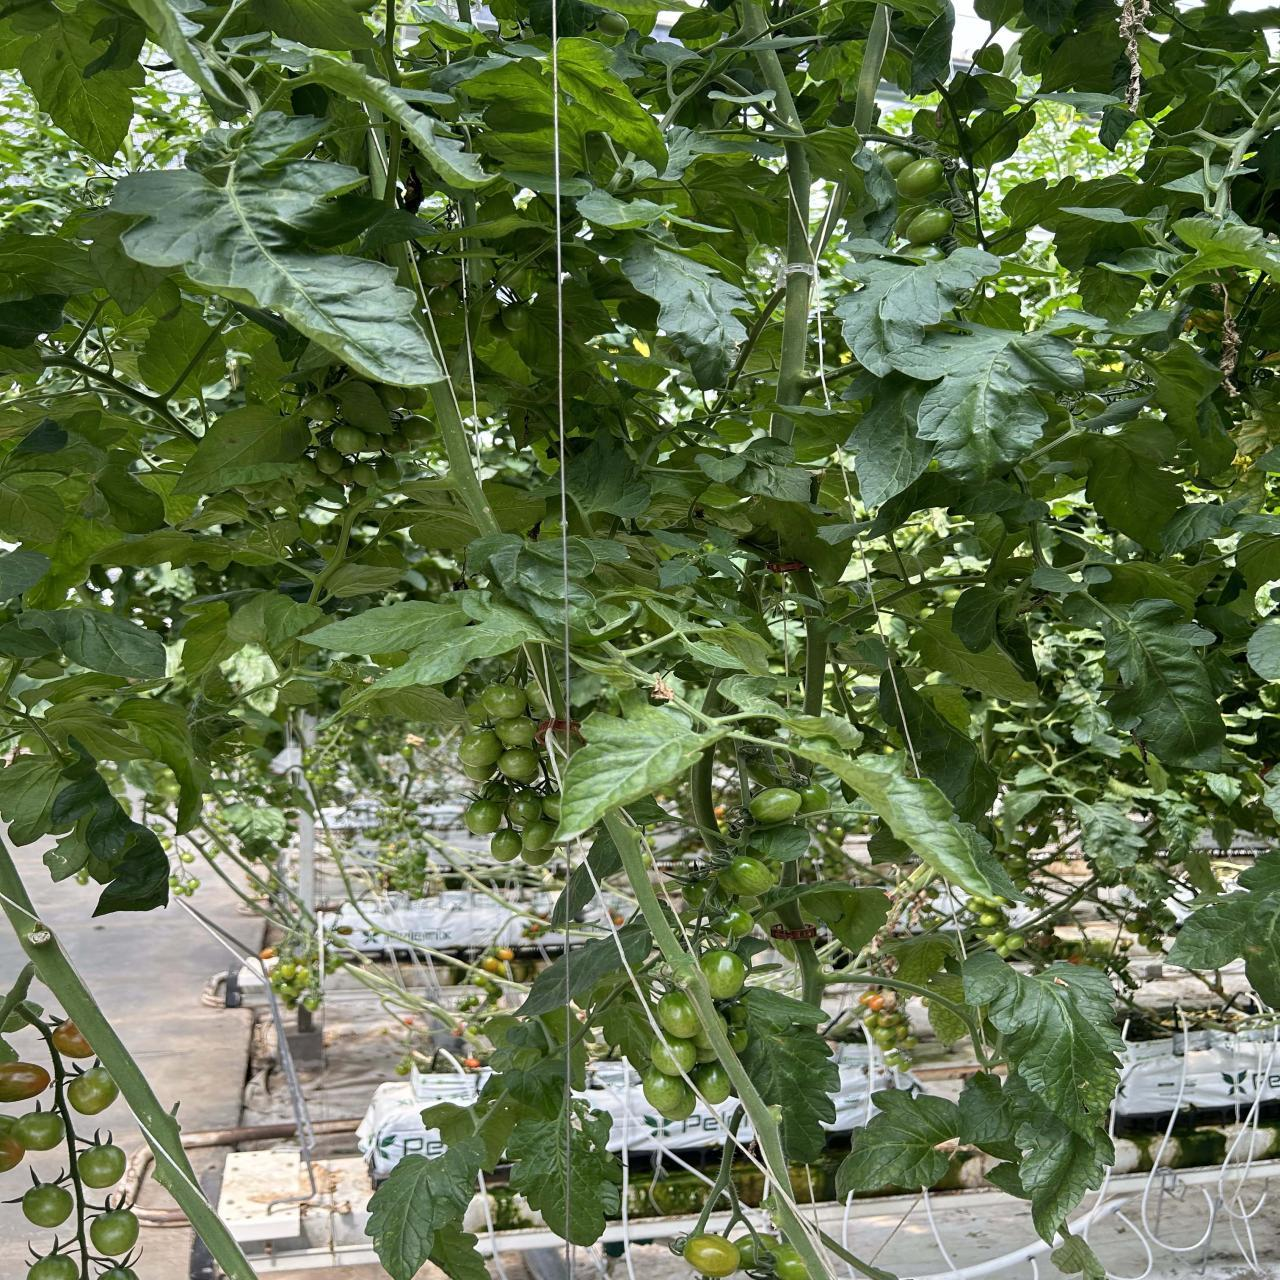Hoja: (111, 118, 442, 386), (0, 740, 169, 915), (964, 959, 1123, 1133), (915, 326, 1084, 479), (4, 0, 145, 162), (1101, 600, 1225, 769), (838, 250, 999, 379), (621, 239, 748, 389), (559, 707, 703, 837), (738, 986, 839, 1160), (366, 1133, 484, 1280), (1169, 856, 1280, 1008), (506, 1098, 620, 1245), (376, 607, 543, 689), (839, 1090, 962, 1198), (1082, 420, 1184, 550), (844, 375, 933, 508), (1015, 1110, 1104, 1240), (177, 407, 309, 493), (21, 608, 166, 680), (304, 601, 468, 655), (138, 302, 211, 392), (178, 340, 226, 397)
Pedunculo: (0, 851, 256, 1280), (605, 812, 781, 1170), (428, 380, 501, 536), (776, 139, 816, 406), (761, 59, 799, 128), (772, 421, 792, 441)
Tomate: (642, 1064, 695, 1121), (68, 1067, 118, 1115), (717, 856, 777, 896), (90, 1208, 138, 1257), (700, 951, 745, 1000), (22, 1183, 73, 1227), (11, 1111, 64, 1151), (658, 990, 701, 1039), (0, 1062, 52, 1102), (749, 788, 802, 824), (898, 158, 944, 198), (651, 1037, 696, 1077), (690, 1060, 730, 1104), (906, 207, 953, 245), (52, 1019, 94, 1058), (458, 729, 503, 765), (481, 686, 527, 719), (498, 747, 539, 783), (27, 1253, 80, 1280), (463, 801, 503, 835), (496, 716, 537, 747), (522, 819, 557, 853), (490, 828, 523, 863), (527, 858, 544, 864)
